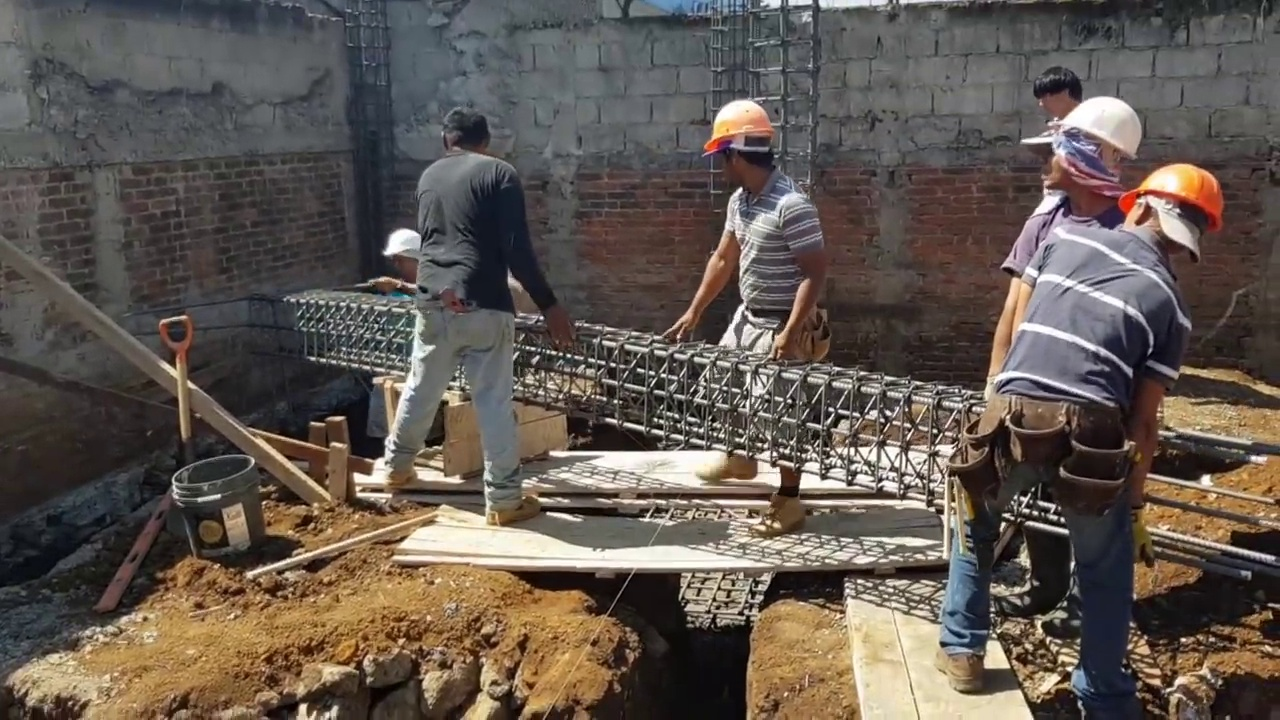helmet: (1128, 166, 1225, 237), (1053, 99, 1151, 158), (700, 97, 780, 157), (377, 230, 425, 262)
helmet-off: (1032, 65, 1088, 118), (439, 108, 490, 157)
helmet-on: (1115, 162, 1229, 266), (1055, 98, 1152, 217), (698, 100, 780, 195), (377, 230, 425, 286)
person: (926, 106, 1234, 708), (369, 103, 576, 534), (681, 82, 827, 522), (983, 96, 1151, 397), (1016, 59, 1094, 194)
